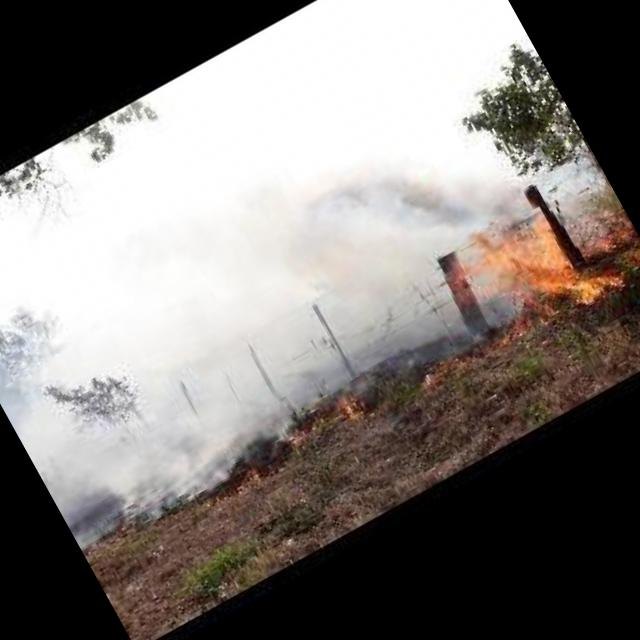fire: (430, 160, 640, 352), (334, 388, 364, 424)
